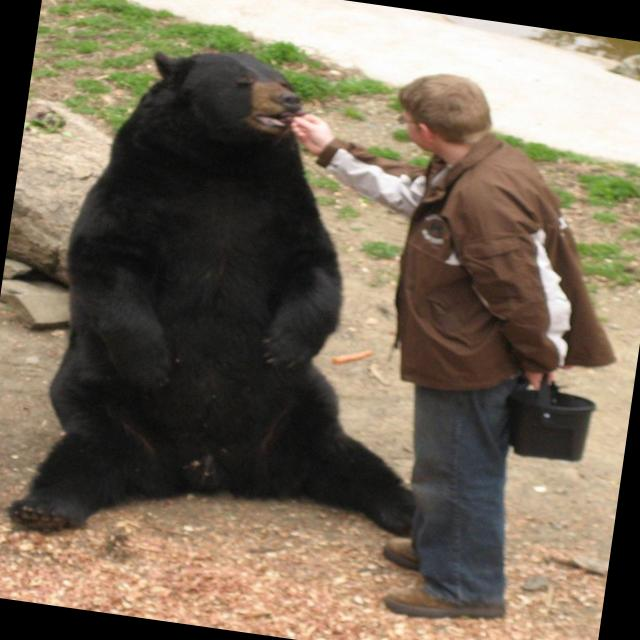bear: (5, 0, 388, 603)
poacher: (328, 42, 619, 640)
